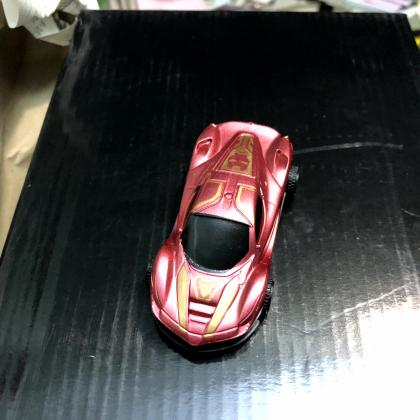Car: (149, 122, 298, 362)
